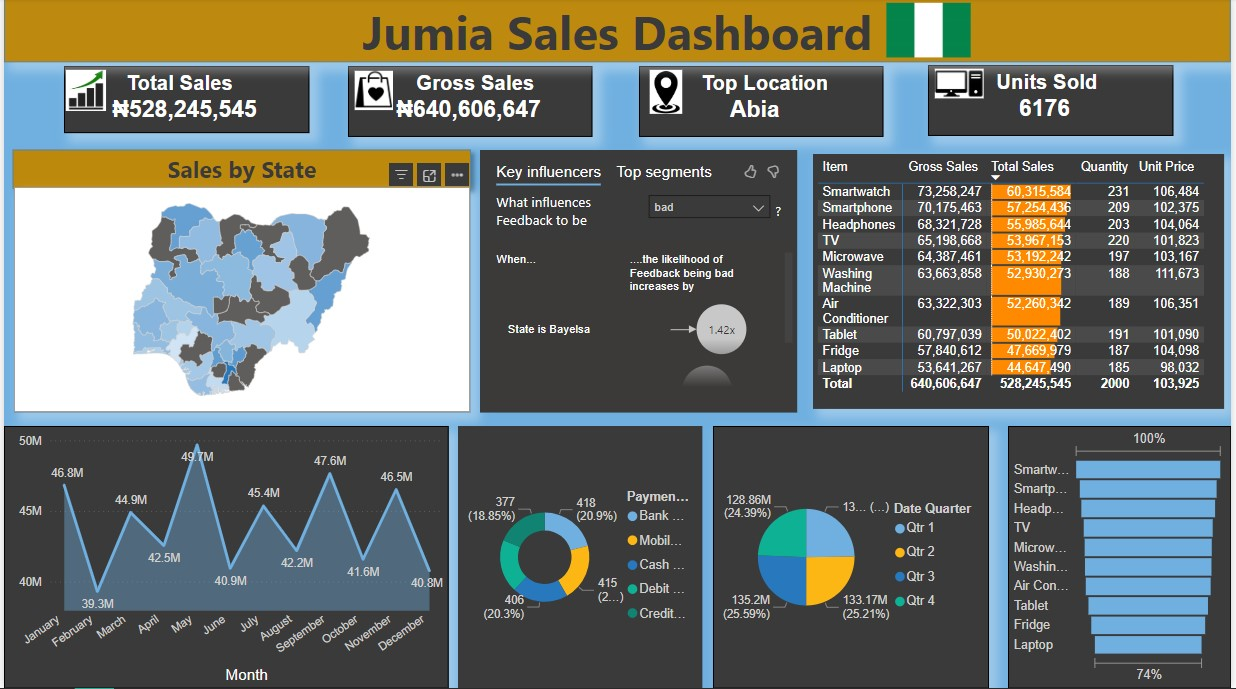

The page's visual inventory and layout, read from the dashboard file:
{"tool":"powerbi","page":{"name":"Page 1","canvas":[1280,720],"ordinal":0},"visuals":[{"type":"textbox","box":[62.5,71.2,256.2,70],"z":0},{"type":"textbox","box":[358.8,71.2,255,73.8],"z":1000},{"type":"image","box":[11.2,70,148.8,52.5],"z":2000},{"type":"image","box":[333.8,71.2,103.8,51.2],"z":3000},{"type":"textbox","box":[662.5,71.2,255,73.8],"z":4000},{"type":"textbox","box":[963.8,70,256.2,73.8],"z":5000},{"type":"image","box":[641.2,70,98.8,56.2],"z":6000},{"type":"image","box":[966.2,66.2,61.2,46.2],"z":7000},{"type":"shape","box":[0,148.8,496.2,58.8],"z":8000},{"type":"shapeMap","fields":{"Category":["orders.State"],"Value":["Sum(orders.Sale Price (Dis. Included))"]},"box":[10,197.5,476.2,235],"z":9000},{"type":"shape","box":[0,0,1280,67.1],"z":10000},{"type":"pivotTable","fields":{"Rows":["orders.Item"],"Values":["Sum(orders.Sale Price)","Sum(orders.Sale Price (Dis. Included))","CountNonNull(orders.Quantity)","Avg(orders.Unit Price)"]},"box":[843.8,162.5,428.8,266.2],"z":11000},{"type":"image","box":[881.4,0,165.7,67.1],"z":12000},{"type":"pieChart","fields":{"Y":["Sum(orders.Sale Price (Dis. Included))"],"Category":["orders.Date.Variation.Date Hierarchy.Quarter"]},"box":[740,446.2,287.5,273.8],"z":13000},{"type":"funnel","fields":{"Category":["orders.Item"],"Y":["Sum(orders.Sale Price (Dis. Included))"]},"box":[1047.5,446.2,232.5,273.8],"z":14000},{"type":"lineChart","fields":{"Y":["Sum(orders.Sale Price (Dis. Included))"],"Category":["orders.Date.Variation.Date Hierarchy.Month"]},"box":[0,446.2,463.8,273.8],"z":15000},{"type":"donutChart","fields":{"Category":["orders.Payment Method"],"Y":["CountNonNull(orders.Payment Method)"]},"box":[473.8,446.2,255,273.8],"z":16000},{"type":"keyDriversVisual","fields":{"Target":["orders.Feedback"],"ExplainBy":["Sum(orders.Sale Price (Dis. Included))","orders.State","orders.Item"]},"box":[496.2,158.8,331.2,273.8],"z":17000}]}

Visuals, with their boxes in screenshot pixels (x1, y1, x2, y2), scaled from the page's 1280x720 canvas onto the 1236x689 screenshot:
textbox: BBox(60, 68, 308, 135)
textbox: BBox(346, 68, 593, 139)
image: BBox(11, 67, 154, 117)
image: BBox(322, 68, 423, 117)
textbox: BBox(640, 68, 886, 139)
textbox: BBox(931, 67, 1178, 138)
image: BBox(619, 67, 715, 121)
image: BBox(933, 63, 992, 108)
shape: BBox(0, 142, 479, 199)
shapeMap - orders.State x Sum(orders.Sale Price (Dis. Included)): BBox(10, 189, 469, 414)
shape: BBox(0, 0, 1235, 64)
pivotTable - orders.Item x Sum(orders.Sale Price): BBox(815, 156, 1229, 410)
image: BBox(851, 0, 1011, 64)
pieChart - Sum(orders.Sale Price (Dis. Included)) x orders.Date.Variation.Date Hierarchy.Quarter: BBox(715, 427, 992, 688)
funnel - orders.Item x Sum(orders.Sale Price (Dis. Included)): BBox(1011, 427, 1235, 688)
lineChart - Sum(orders.Sale Price (Dis. Included)) x orders.Date.Variation.Date Hierarchy.Month: BBox(0, 427, 448, 688)
donutChart - orders.Payment Method x CountNonNull(orders.Payment Method): BBox(458, 427, 704, 688)
keyDriversVisual - orders.Feedback x Sum(orders.Sale Price (Dis. Included)): BBox(479, 152, 799, 414)
